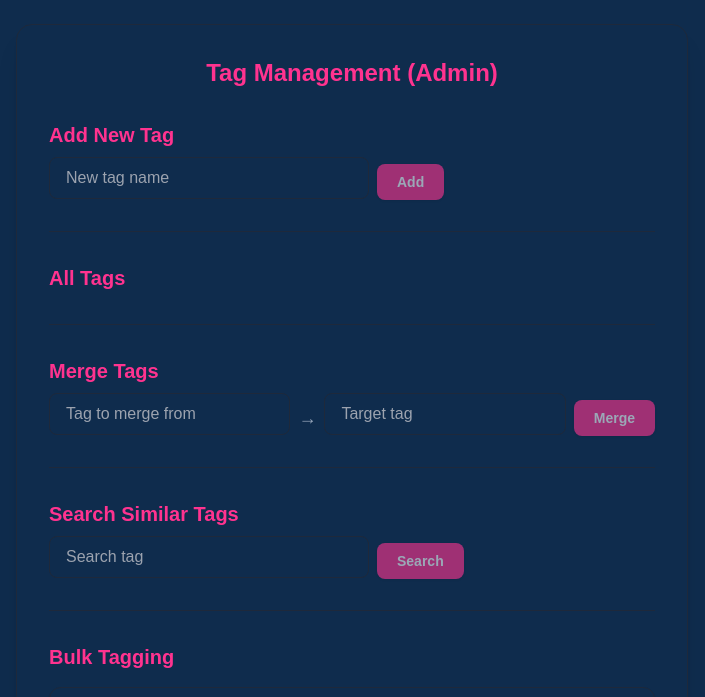
Test: TagAdminPanel - מערכת ניהול תגיות › בודק הודעת שגיאה בהוספת תגית קיימת
Type "foo" into the field with placeholder "New tag name" at {"x": 209, "y": 178}, box [49,157,369,199]
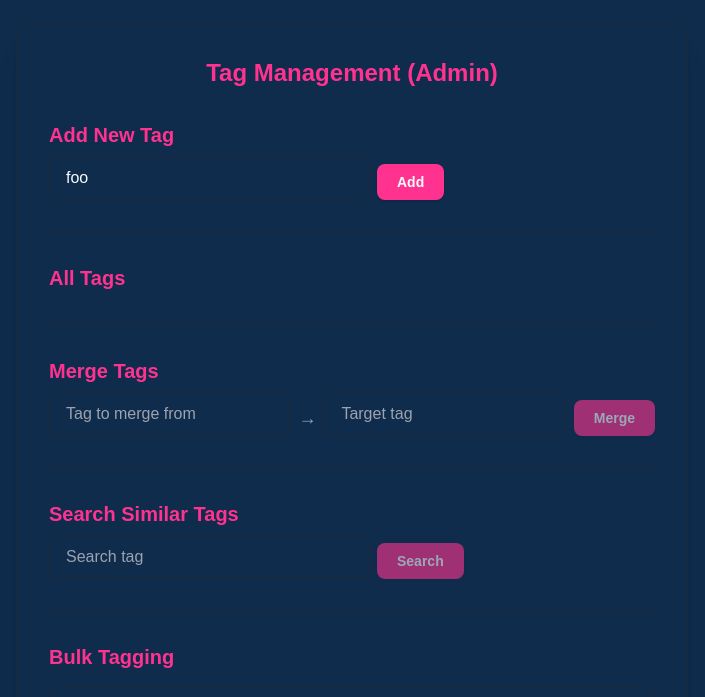
Click the button "Add" at {"x": 411, "y": 182}, box [377,164,444,200]
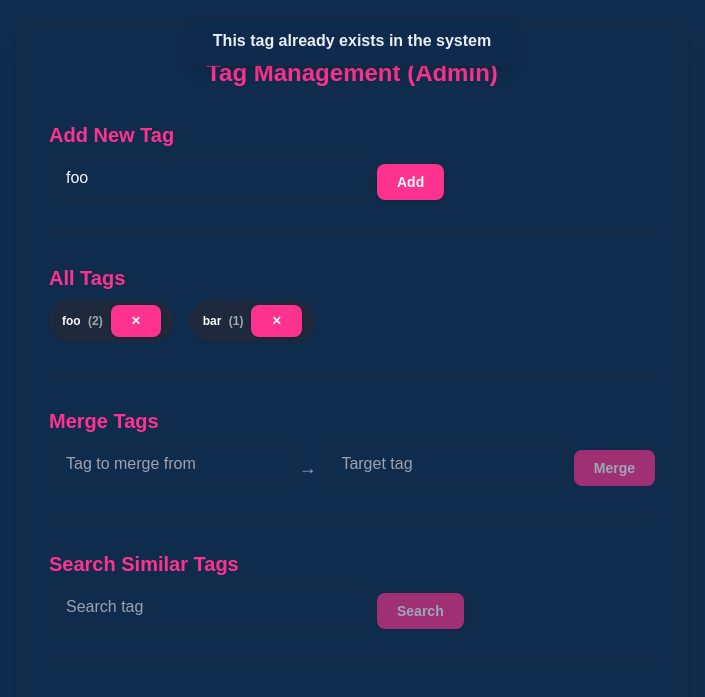
Expected: the text "This tag already exists in the system" is shown, [188,16,516,66]
